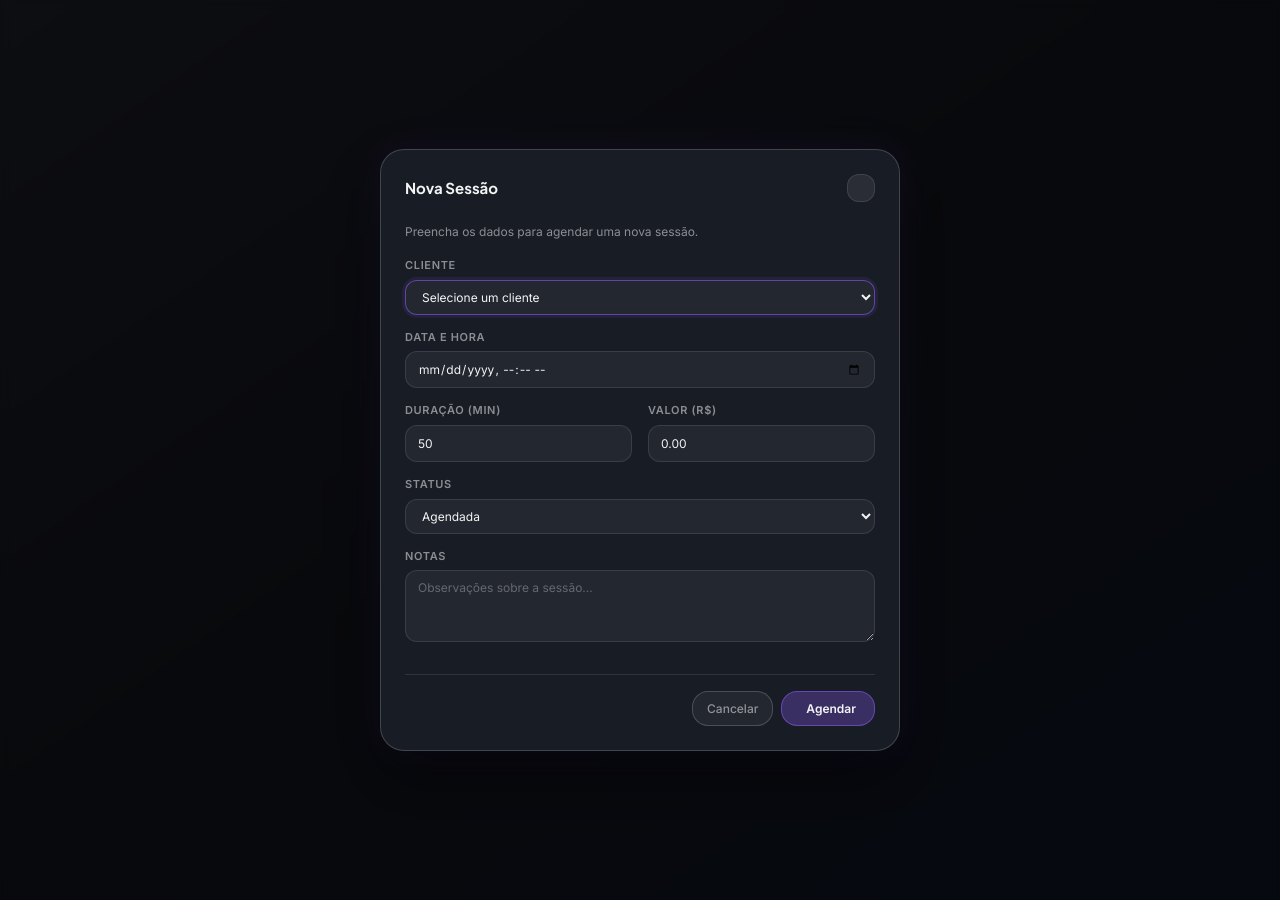
Test: SessionForm › exibe mensagem de erro de validação para client_id vazio ao submeter
Expected: the dialog is shown, [380, 149, 900, 751]
Submit the form without selecting a client — validation fires
What coordinates should you click on to do the following:
click the button "Agendar"
I would click on:
 (828, 709)
Its box is [781, 691, 875, 726].
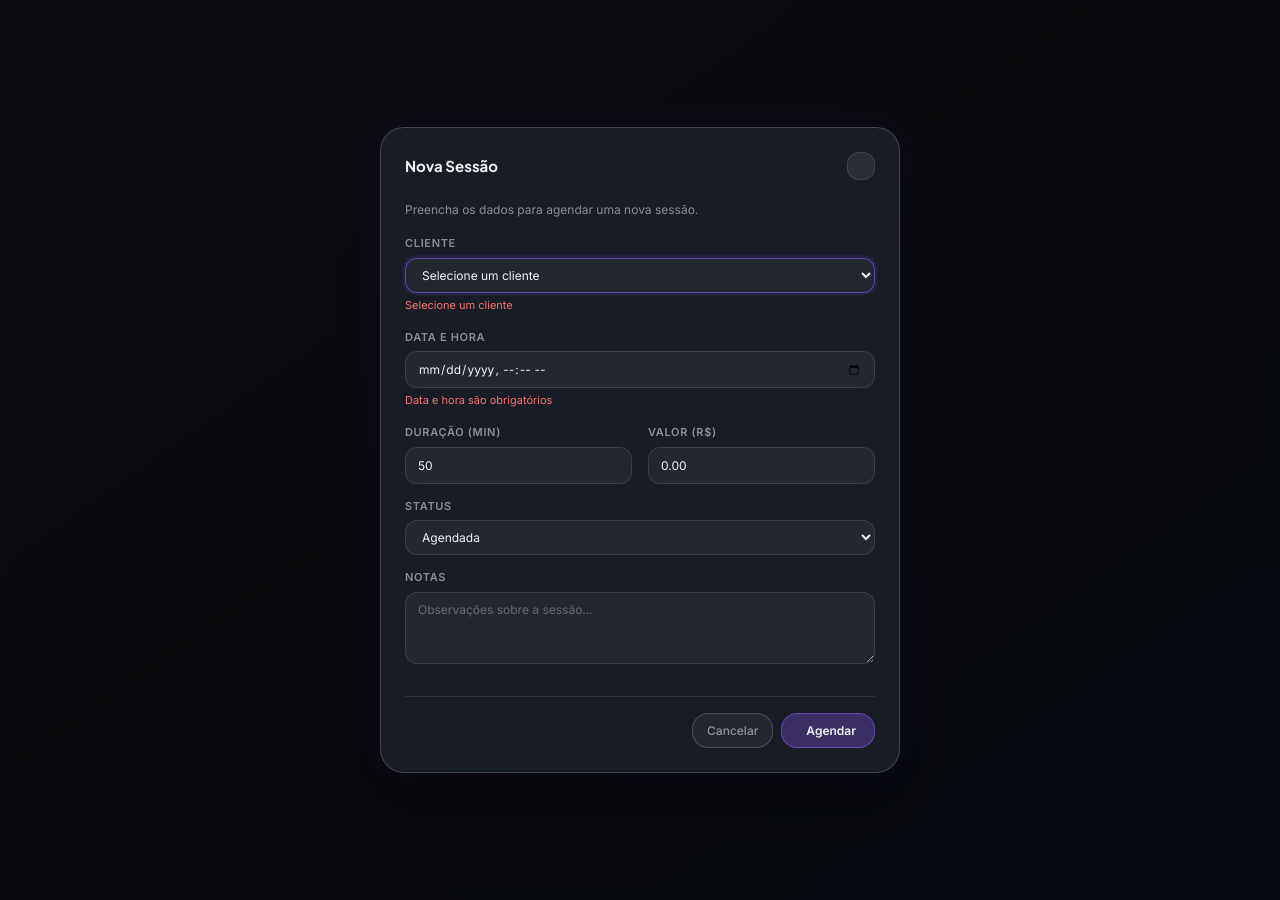
Result: the text "Selecione um cliente" is shown at [405, 298, 513, 312]
